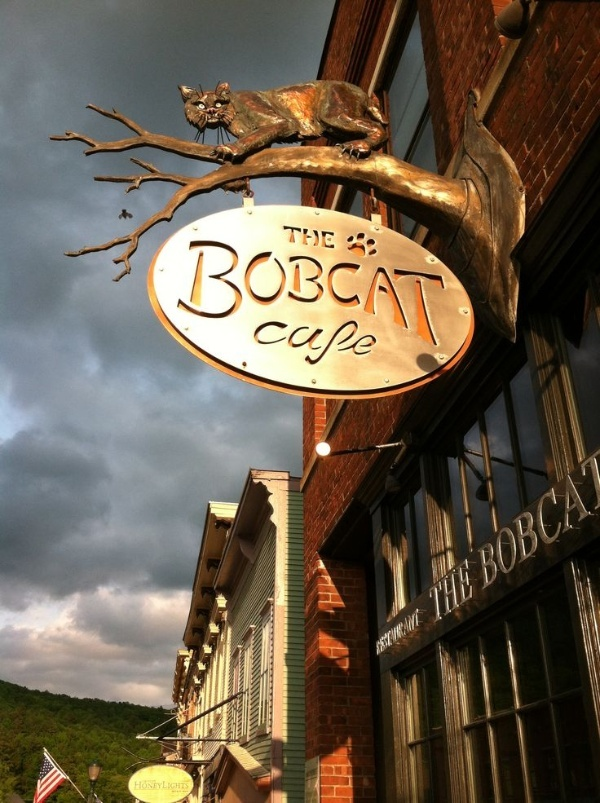text: (481, 449, 496, 592), (497, 449, 512, 592), (513, 449, 528, 592), (529, 449, 544, 592), (545, 449, 560, 592), (561, 449, 576, 592), (577, 449, 592, 592), (193, 238, 208, 348), (209, 238, 224, 348), (225, 238, 240, 348), (241, 238, 256, 348), (257, 238, 272, 348), (273, 238, 288, 348), (289, 238, 304, 348), (305, 238, 320, 348), (321, 238, 336, 348), (337, 238, 352, 348), (353, 238, 368, 348), (369, 238, 384, 348), (385, 238, 400, 348), (401, 238, 416, 348), (417, 238, 432, 348), (433, 238, 447, 348), (593, 449, 600, 592), (433, 558, 448, 624), (449, 558, 464, 624), (257, 316, 272, 376), (273, 316, 288, 376), (289, 316, 304, 376), (305, 316, 320, 376), (321, 316, 336, 376), (337, 316, 352, 376), (353, 316, 368, 376), (385, 605, 400, 659), (401, 605, 416, 659), (369, 316, 382, 376), (465, 558, 473, 624), (375, 605, 384, 659), (477, 449, 480, 592), (289, 225, 304, 249), (305, 225, 320, 249), (321, 225, 336, 249), (428, 558, 432, 624), (190, 238, 192, 348), (281, 225, 288, 249), (417, 605, 420, 659), (145, 781, 160, 790), (161, 781, 176, 790), (177, 781, 190, 790), (135, 781, 144, 790), (255, 316, 256, 376)
